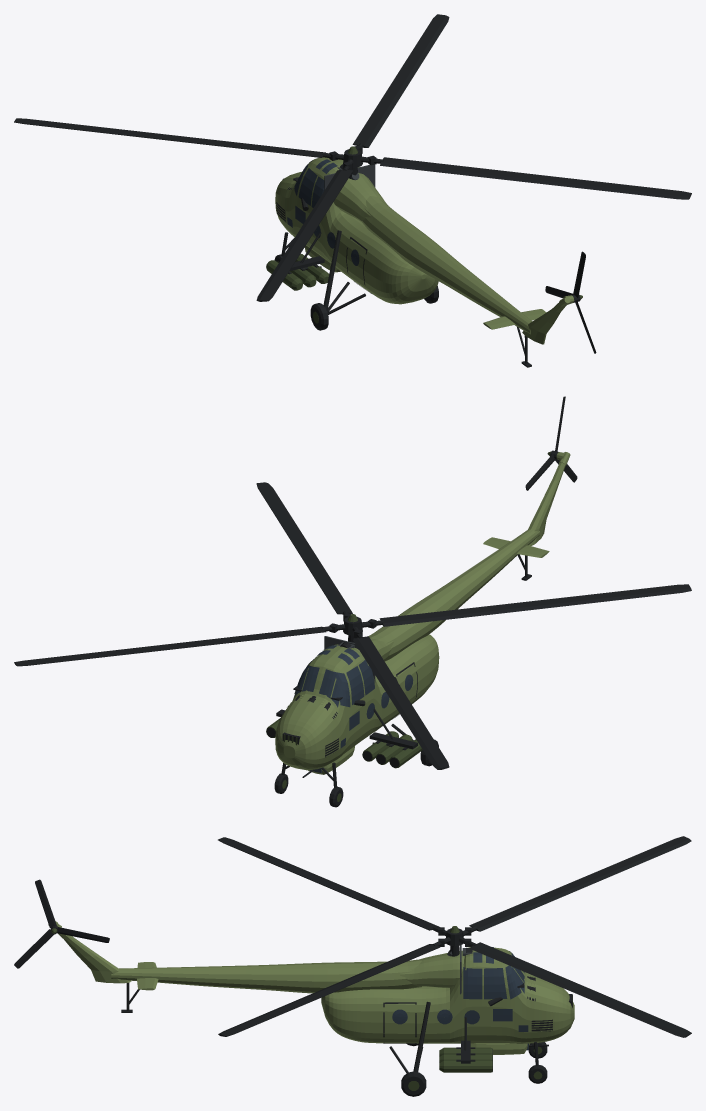
The picture shows the model from 3 angles, top to bottom: view 1: azimuth 30°, elevation 25°; view 2: azimuth 150°, elevation 25°; view 3: azimuth 270°, elevation 25°; orthographic projection. The views are drawn at different scales.
Visible parts, largest first — view 1: Main Rotor, Fuselage, Tail Boom, Landing Gear, Transmission Fairing, Rocket Pods, Cockpit Glass, Tail Pylon, Tail Rotor, Details; view 2: Main Rotor, Fuselage, Tail Boom, Cockpit Glass, Rocket Pods, Tail Pylon, Landing Gear, Details, Tail Rotor; view 3: Fuselage, Main Rotor, Tail Boom, Cockpit Glass, Transmission Fairing, Landing Gear, Rocket Pods, Tail Rotor, Tail Pylon, Cabin Glass, Details, Gondola.
Boxes of the visible parts, bbox=[...] form: Main Rotor: bbox=[14, 14, 691, 301]; Fuselage: bbox=[275, 157, 438, 304]; Tail Boom: bbox=[362, 196, 532, 334]; Landing Gear: bbox=[274, 230, 438, 330]; Transmission Fairing: bbox=[333, 173, 388, 222]; Rocket Pods: bbox=[266, 254, 329, 290]; Cockpit Glass: bbox=[294, 159, 337, 207]; Tail Pylon: bbox=[522, 303, 566, 344]; Tail Rotor: bbox=[545, 251, 596, 353]; Details: bbox=[289, 164, 371, 293]; Main Rotor: bbox=[14, 482, 691, 769]; Fuselage: bbox=[275, 634, 439, 770]; Tail Boom: bbox=[368, 529, 540, 661]; Cockpit Glass: bbox=[294, 645, 374, 707]; Rocket Pods: bbox=[266, 718, 422, 768]; Tail Pylon: bbox=[528, 462, 565, 545]; Landing Gear: bbox=[274, 677, 438, 807]; Details: bbox=[276, 642, 417, 777]; Tail Rotor: bbox=[525, 396, 577, 490]; Fuselage: bbox=[321, 947, 574, 1043]; Main Rotor: bbox=[218, 836, 691, 1037]; Tail Boom: bbox=[111, 959, 421, 993]; Cockpit Glass: bbox=[463, 947, 524, 999]; Transmission Fairing: bbox=[400, 950, 464, 987]; Landing Gear: bbox=[389, 1001, 547, 1096]; Rocket Pods: bbox=[439, 1047, 492, 1072]; Tail Rotor: bbox=[14, 879, 109, 968]; Tail Pylon: bbox=[58, 933, 131, 983]; Cabin Glass: bbox=[392, 1009, 528, 1050]; Details: bbox=[383, 947, 548, 1063]; Gondola: bbox=[470, 1043, 530, 1054].
Size of the model in its own units: 15.12 by 6.86 by 21.61.
